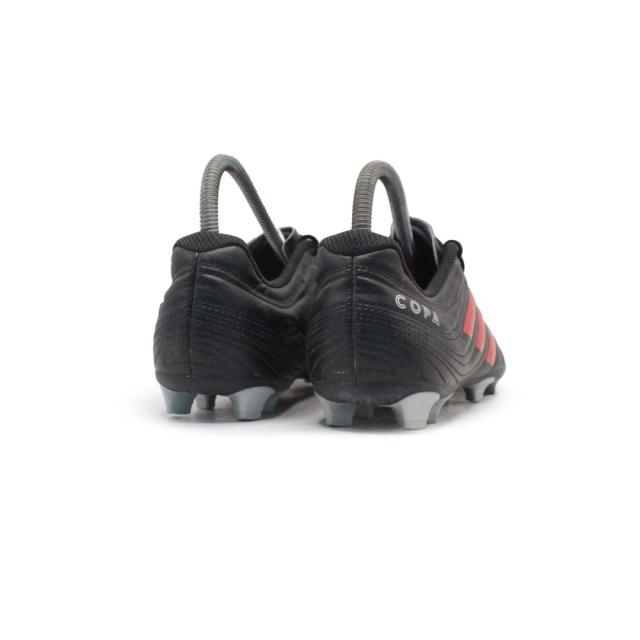heel: (301, 224, 444, 372), (150, 226, 282, 364)
midsole: (300, 369, 507, 430), (148, 358, 299, 415)
